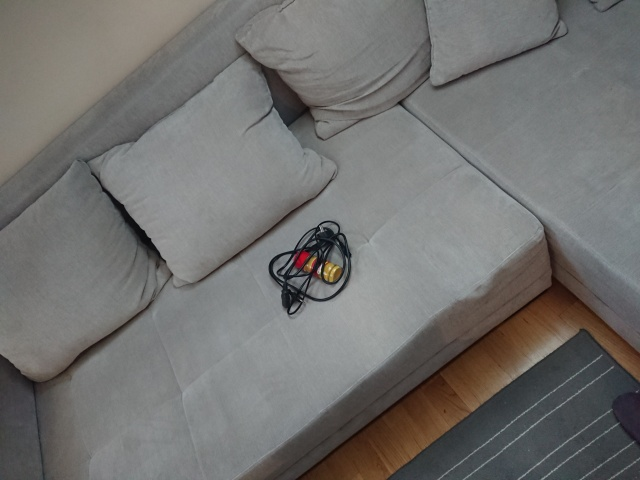Kotanyi Curry Spices Mix 70g: (291, 249, 345, 284)
